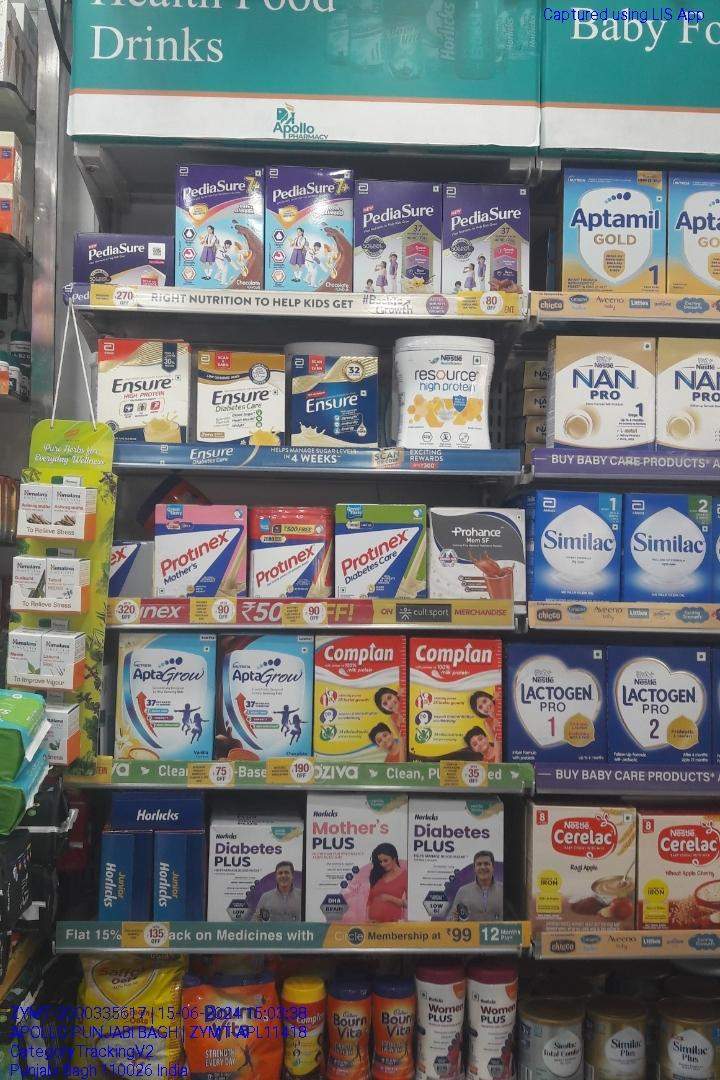BOURN_VITA_500_G_JAR: (327, 968, 373, 1080), (374, 970, 416, 1080)
COMPLAN_CHOCOLATE_500_GMS_PACK: (410, 638, 501, 764)
COMPLAN_CREAMY_CLASSIC_500_G_PACK: (314, 635, 406, 764)
ENSURE_VANILLA_400_G_PACK: (289, 355, 378, 448)
PEDIASURE_CHOCOLATE_500_G_PACK: (443, 183, 529, 291)
PEDIASURE_VANILLA_500_G_PACK: (356, 180, 439, 294)
